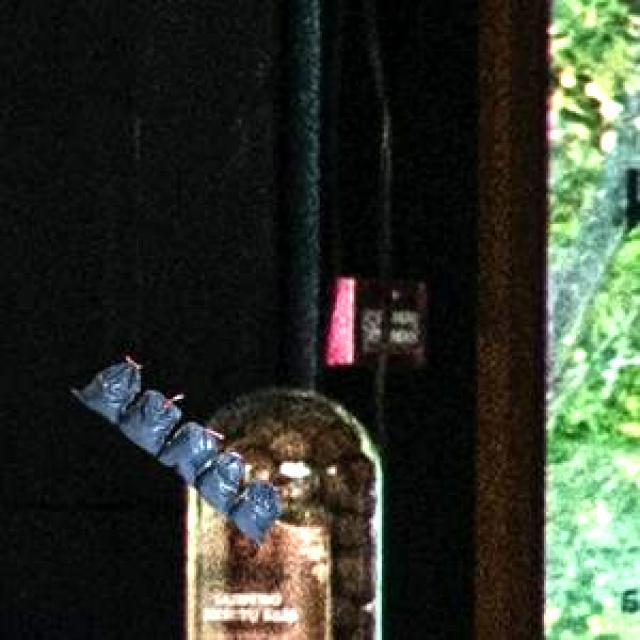Garbage_Bag: (70, 359, 278, 541)
